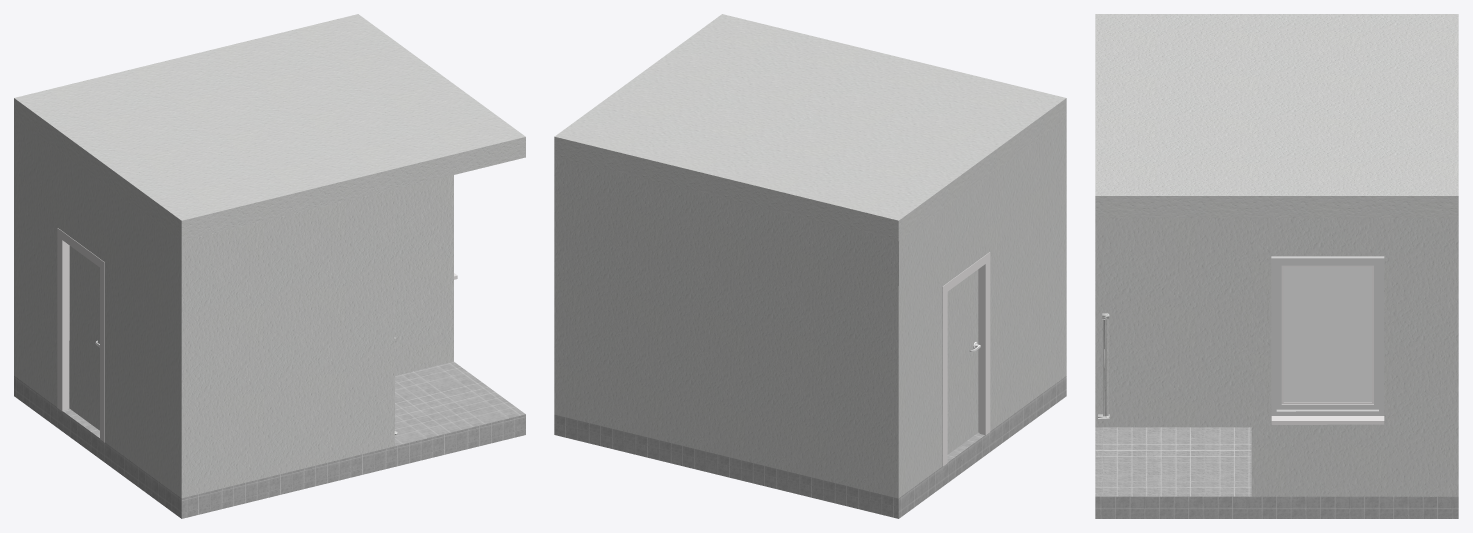
The model's file is FloorPlan426_physics.fbx.
The picture shows the model from 3 angles, left to right: view 1: azimuth 30°, elevation 25°; view 2: azimuth 150°, elevation 25°; view 3: azimuth 270°, elevation 25°; orthographic projection. The views are drawn at different scales.
Visible parts, largest first — view 1: FP426:Walls, FP426:Ceiling, FP426:Floor, FP426:Door.018, FP426:DoorFrame.018; view 2: FP426:Walls, FP426:Ceiling, FP426:Floor, FP426:Door.018, FP426:DoorFrame.018; view 3: FP426:Ceiling, FP426:Walls, FP426:Floor, FP426:polySurface114, FP426:polySurface115, FP426:FloorPlan426wall.
Part boxes in pixels (x1,y1,x2,y2): FP426:Walls: (14, 119, 453, 498); FP426:Ceiling: (14, 14, 525, 240); FP426:Floor: (14, 361, 525, 518); FP426:Door.018: (69, 246, 99, 430); FP426:DoorFrame.018: (57, 228, 104, 442); FP426:Walls: (554, 118, 1066, 498); FP426:Ceiling: (554, 14, 1066, 241); FP426:Floor: (554, 376, 1066, 518); FP426:Door.018: (947, 269, 978, 454); FP426:DoorFrame.018: (942, 252, 990, 466); FP426:Ceiling: (1095, 14, 1458, 218); FP426:Walls: (1095, 218, 1458, 496); FP426:Floor: (1095, 427, 1458, 518); FP426:polySurface114: (1283, 267, 1371, 402); FP426:polySurface115: (1271, 256, 1384, 424); FP426:FloorPlan426wall: (1098, 313, 1109, 418).
Bounding box in the file's own units: 436 × 348 × 354.
